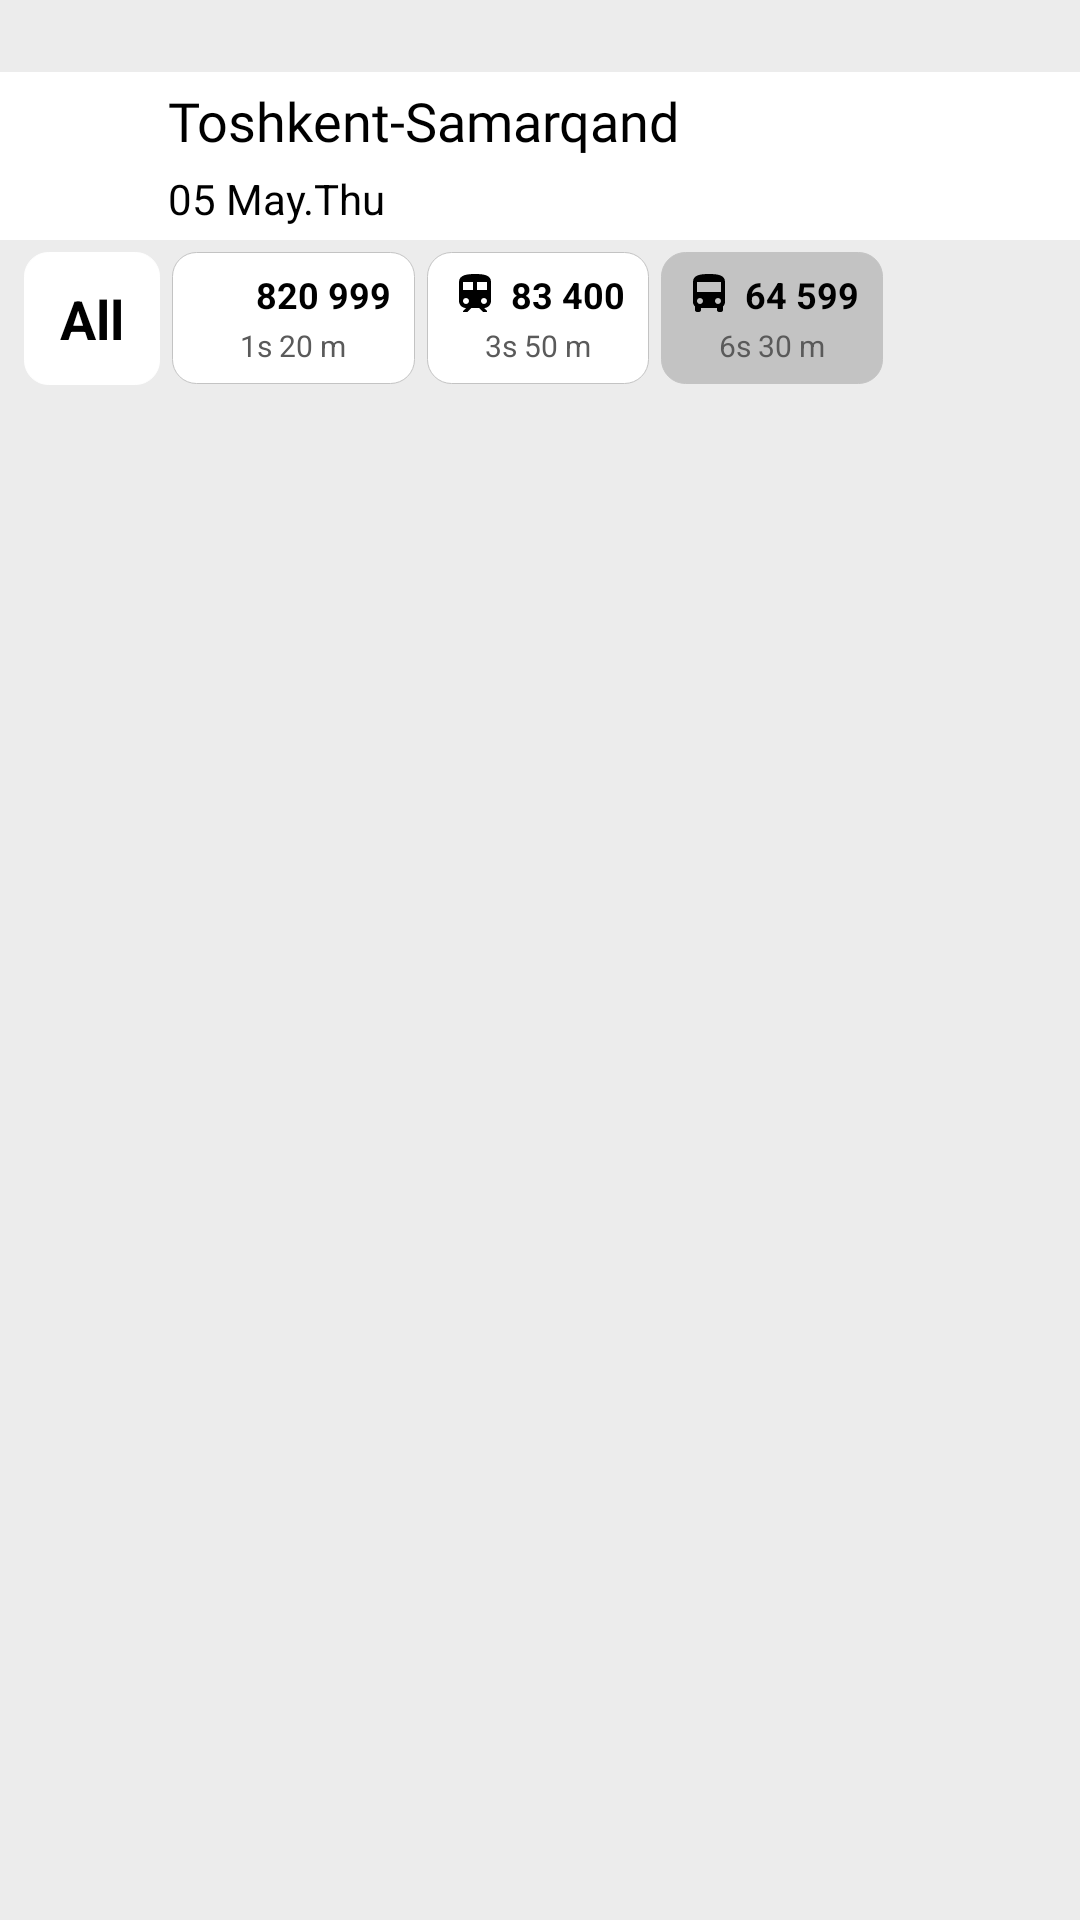

Icon click points for this 1080w x 1920h phone screenshot, format (x,y):
bus: (709,293)
train: (475,293)
